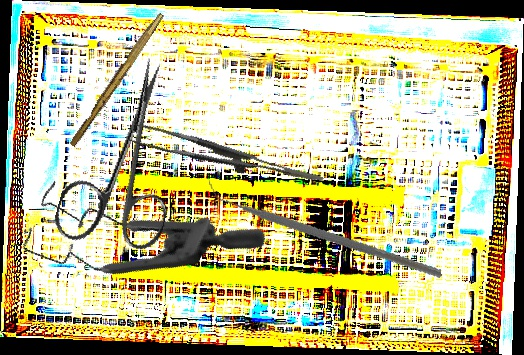Chopper: (207, 129, 443, 325)
Iris Scissors: (50, 45, 205, 262)
Scalpel Handle: (68, 9, 165, 150)
Speculum: (0, 106, 270, 348)
Tissue Forceps: (128, 104, 324, 214)
